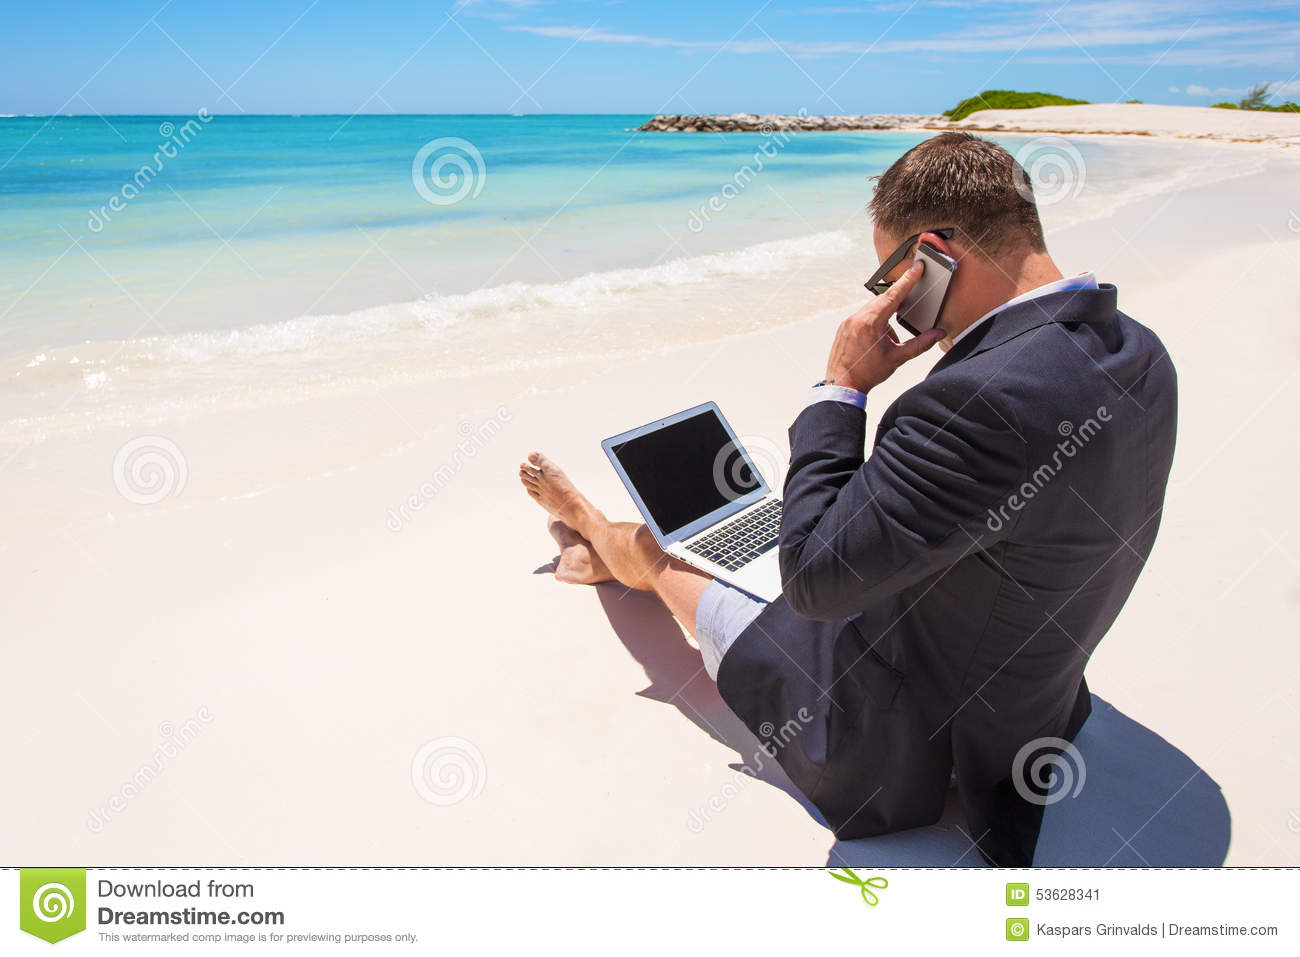phone: (887, 251, 955, 363)
talk: (827, 229, 975, 399)
